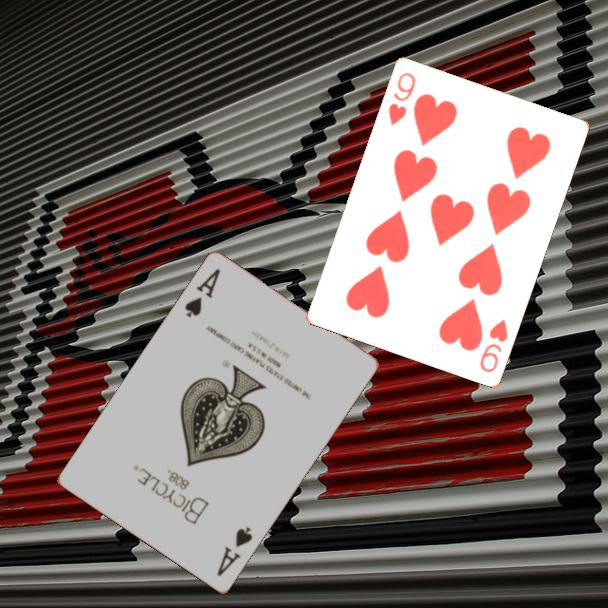h09: (476, 315, 510, 375), (385, 68, 418, 128)
s01: (213, 523, 256, 580), (181, 265, 223, 321)
